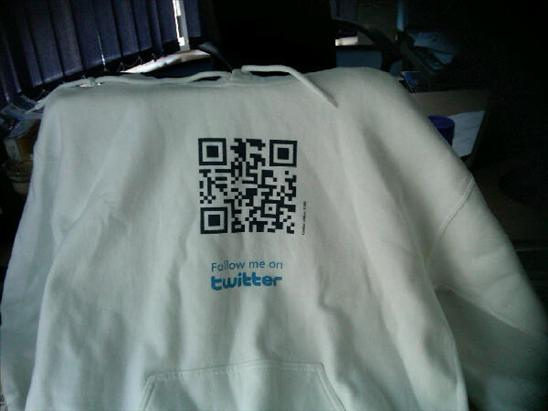QR-CODE: (198, 138, 296, 233)
